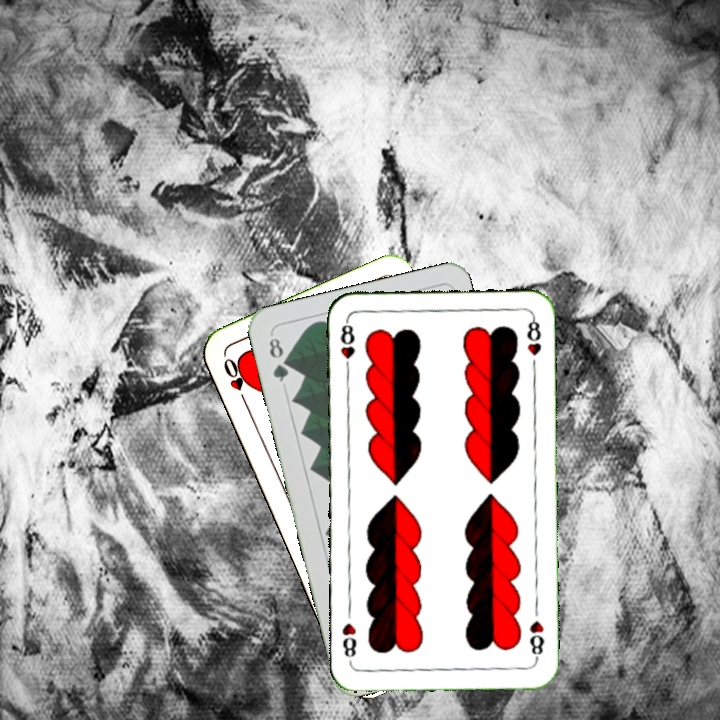G8: (265, 333, 291, 385)
H8: (336, 316, 357, 375), (525, 616, 547, 663)
HO: (219, 354, 251, 409)
